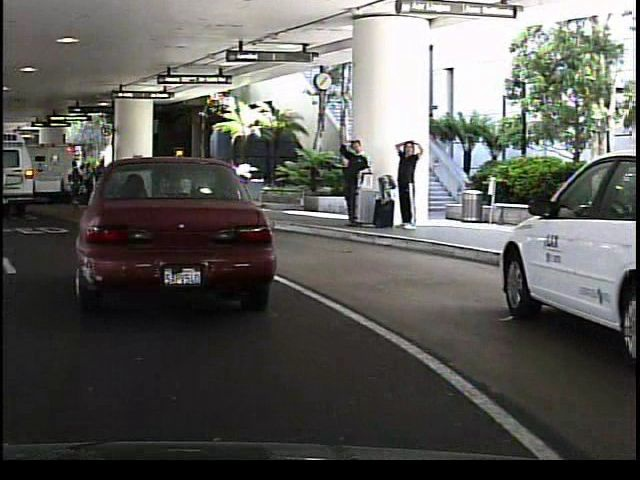person: (336, 134, 368, 228), (391, 135, 420, 233), (216, 151, 244, 219), (355, 151, 376, 222)
